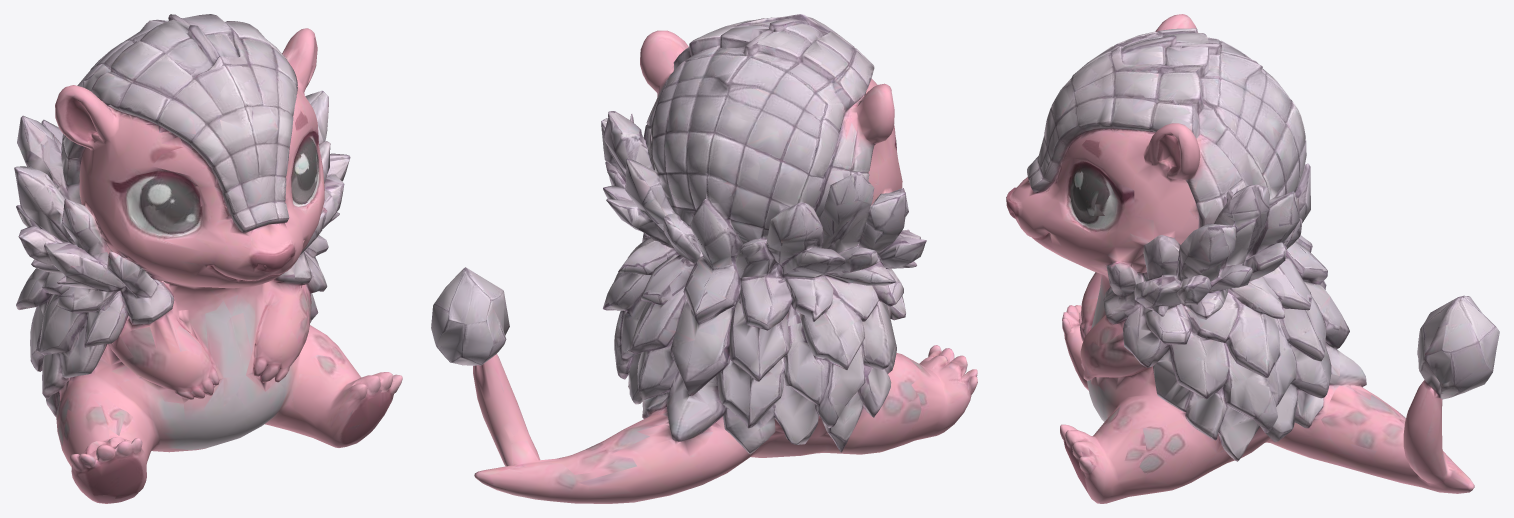
3 views of the same model, side by side, from view 1: azimuth 30°, elevation 25°; view 2: azimuth 150°, elevation 25°; view 3: azimuth 270°, elevation 25° (orthographic). The views are drawn at different scales.
Visible parts, largest first — view 1: Mesh_0; view 2: Mesh_0; view 3: Mesh_0.
Part boxes in pixels (x1=…): Mesh_0: x1=14, y1=14, x2=402, y2=503; Mesh_0: x1=431, y1=14, x2=977, y2=503; Mesh_0: x1=1006, y1=14, x2=1499, y2=503.
Size of the model in its own units: 1.59 by 1.73 by 1.9.
Materials: 1 (1 with a texture image).
